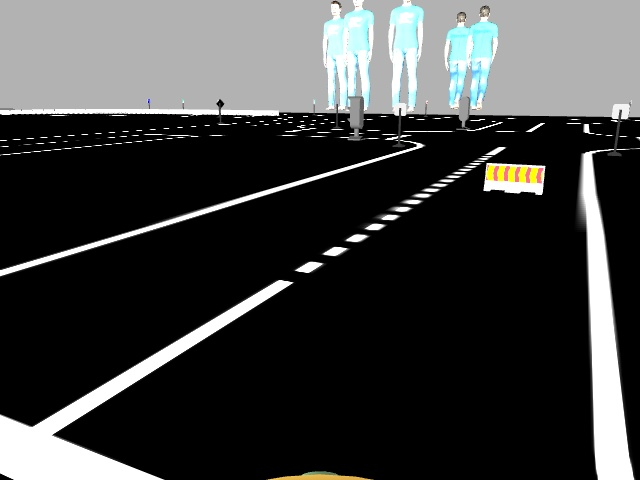ClosedRoadStand: (485, 162, 541, 193)
